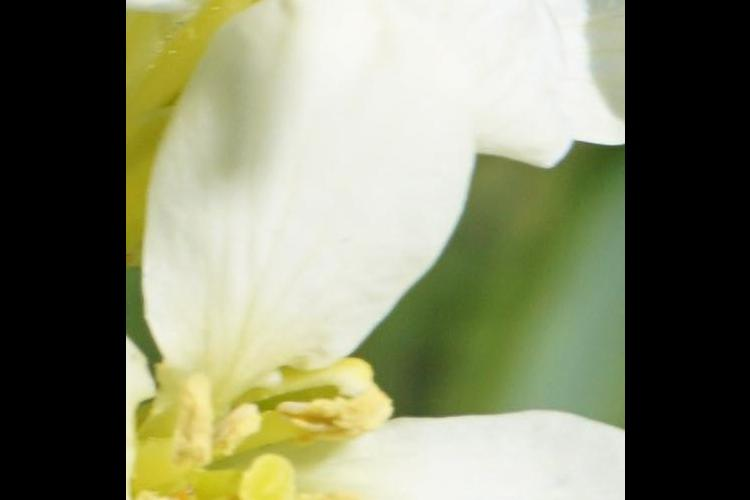white: (137, 1, 569, 500)
